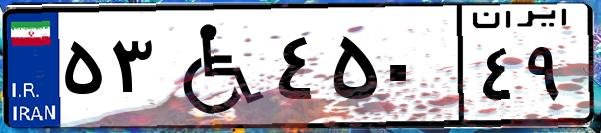0: (385, 28, 445, 110)
3: (110, 28, 158, 98)
4: (270, 28, 330, 110), (475, 38, 525, 113)
5: (330, 28, 385, 110), (57, 26, 110, 100)
9: (525, 38, 570, 115)
ژ (معلولین و جانبازان): (158, 12, 270, 120)
